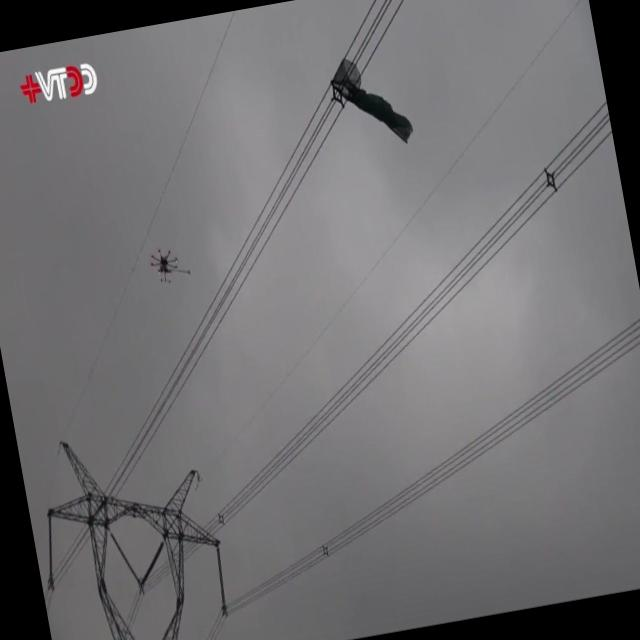drone: (145, 242, 182, 288)
